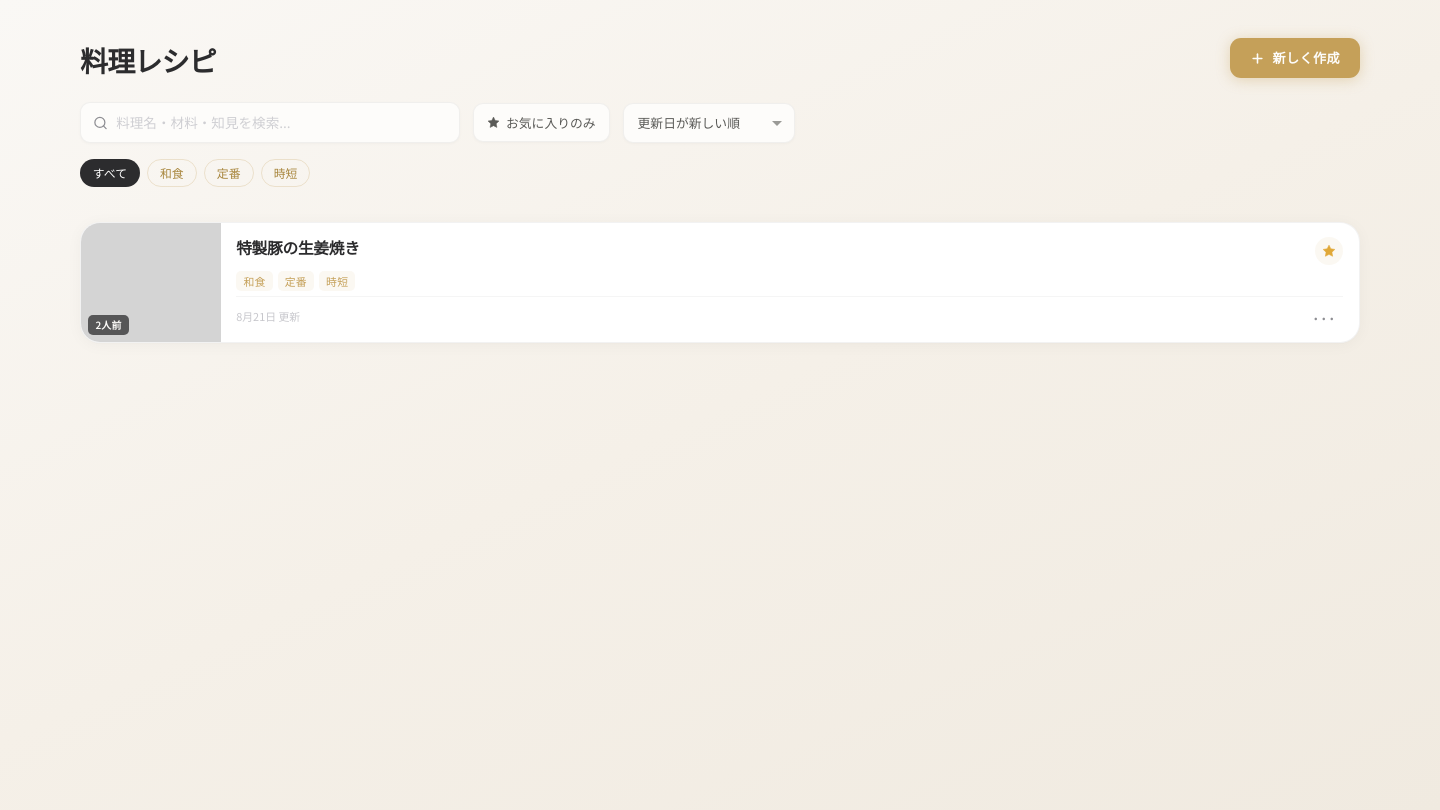
Test: Recipes メインモジュール › 検索バーに一致しない文字を入力すると空状態メッセージが表示される
Type "存在しない料理名xyz" into the field with placeholder "料理名・材料・知見を検索...".
click(270, 123); type("存在しない料理名xyz")  # box [80,102,460,144]
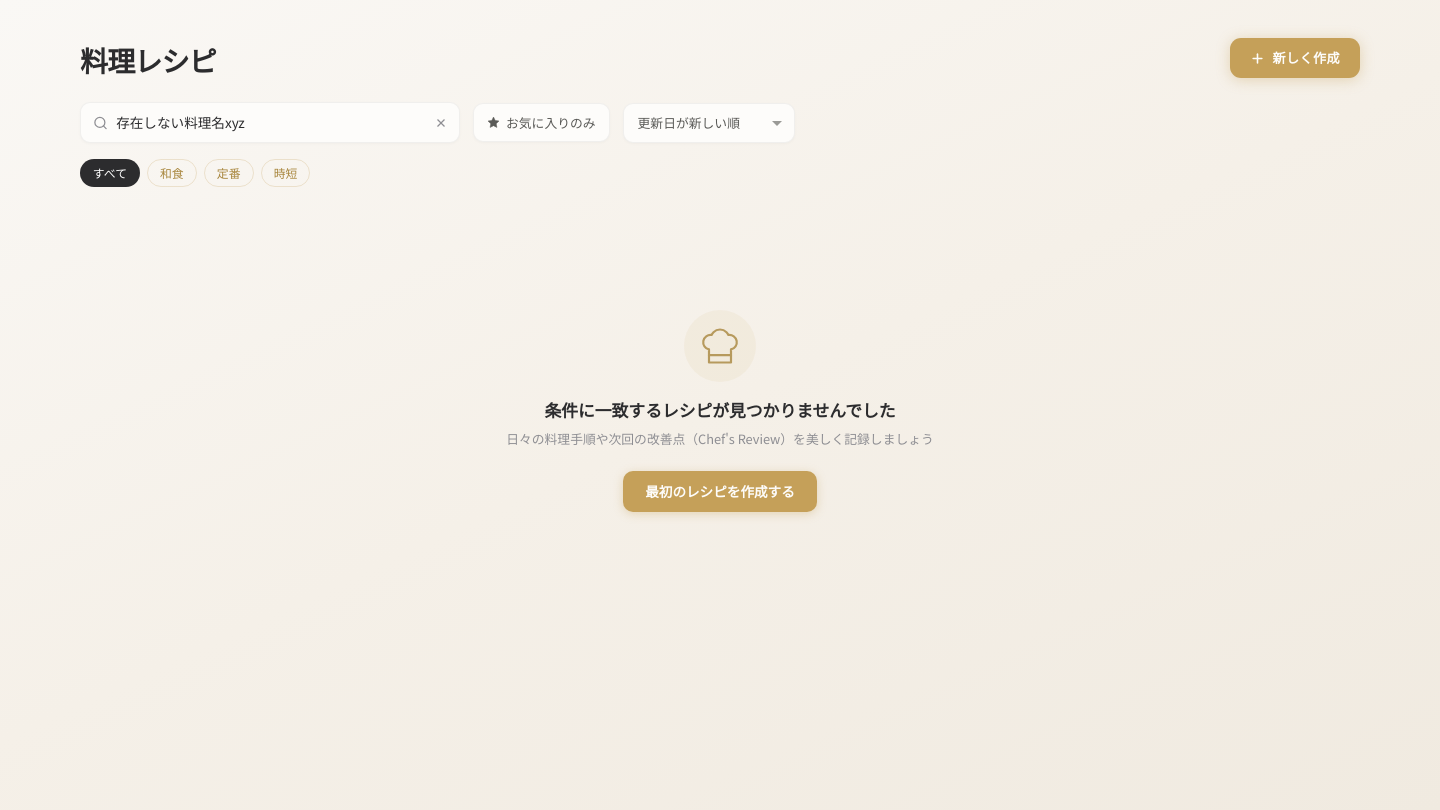
Expected: the text "条件に一致するレシピが見つかりませんでした" is shown, [544,398,896,422]
